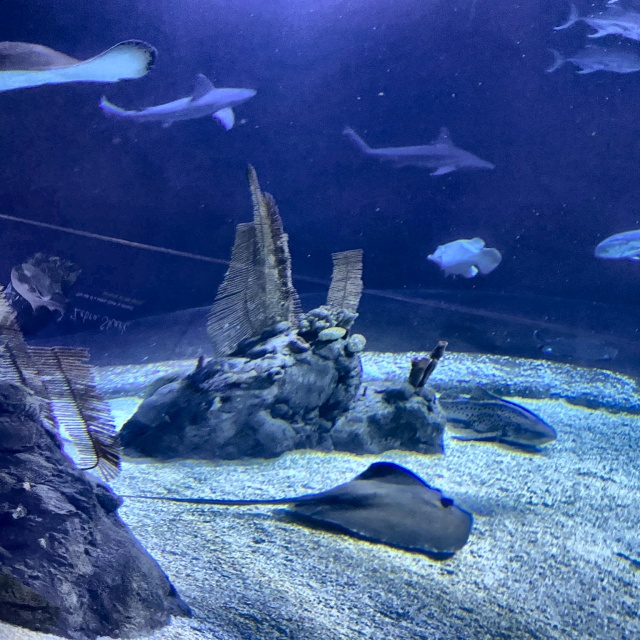fish: (435, 384, 558, 447), (555, 1, 639, 42), (542, 42, 639, 77), (427, 237, 502, 279), (595, 229, 639, 263)
shark: (98, 71, 258, 133), (335, 123, 495, 180)
stingray: (285, 462, 474, 553), (0, 40, 158, 93), (539, 336, 618, 361)
